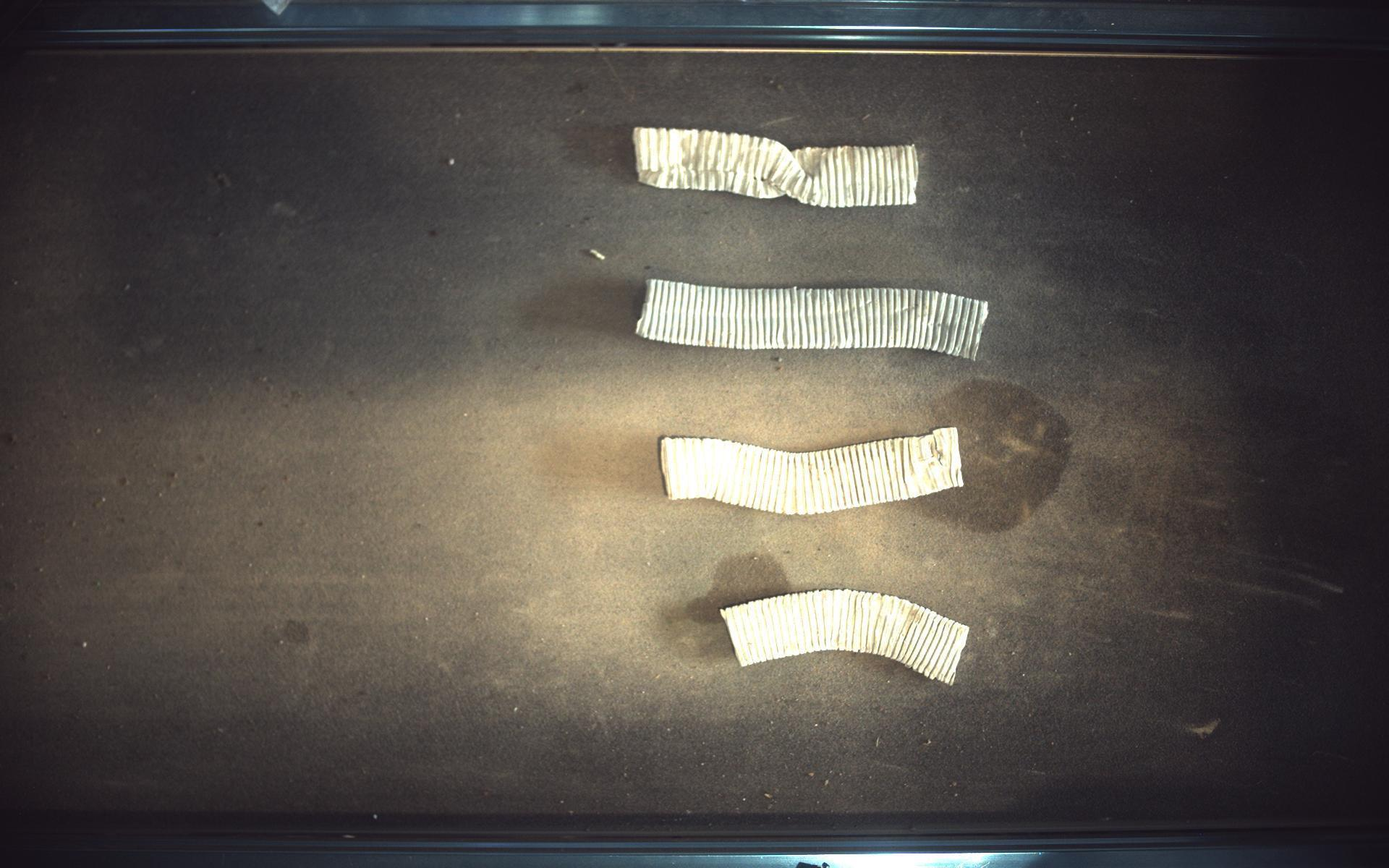pipes: (637, 278, 990, 359), (661, 427, 965, 515), (722, 590, 970, 685), (634, 126, 920, 207)
